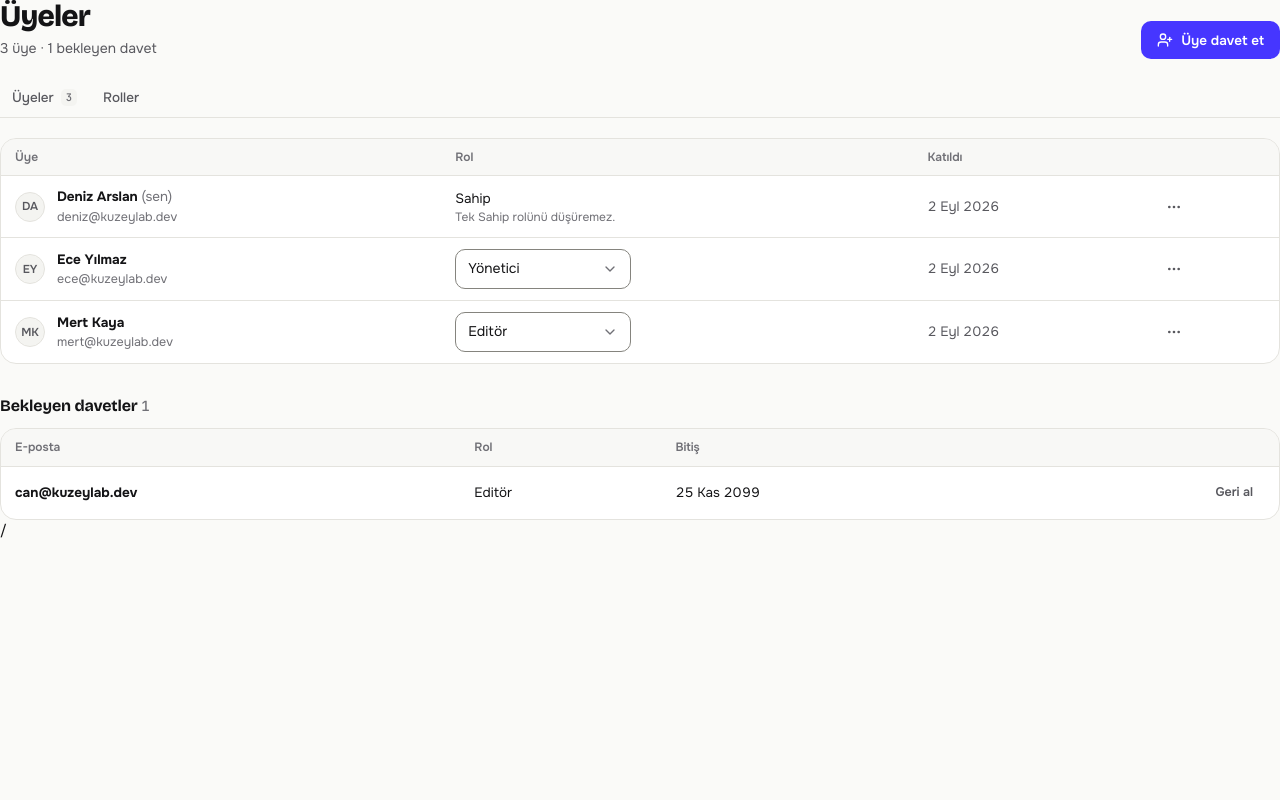
MembersPage › invites each address separately and shows each link once
Click the button "Üye davet et". click: {"x": 1211, "y": 40}
box: [1141,21,1279,59]
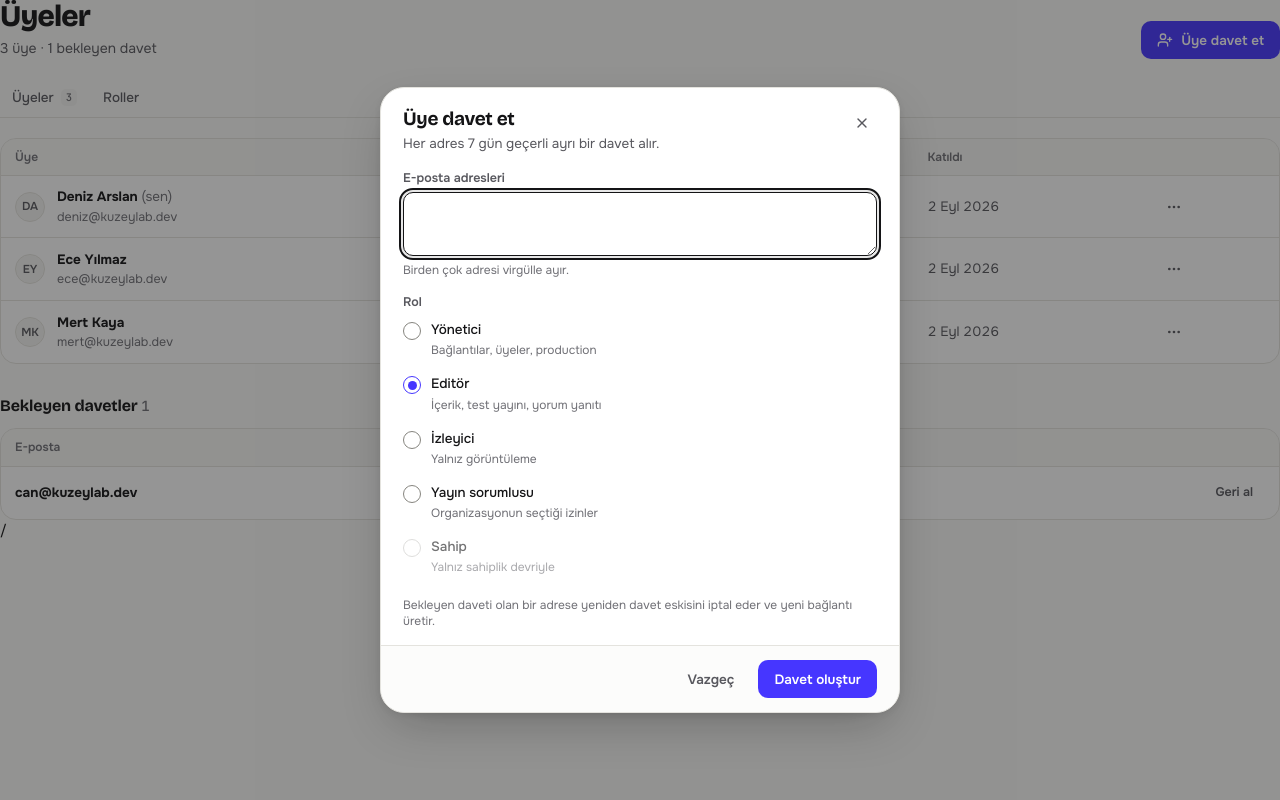
Type "a@kuzeylab.dev, b@kuzeylab.dev" into the text box labelled "E-posta adresleri". click: {"x": 640, "y": 224}
box: [403,192,877,256]
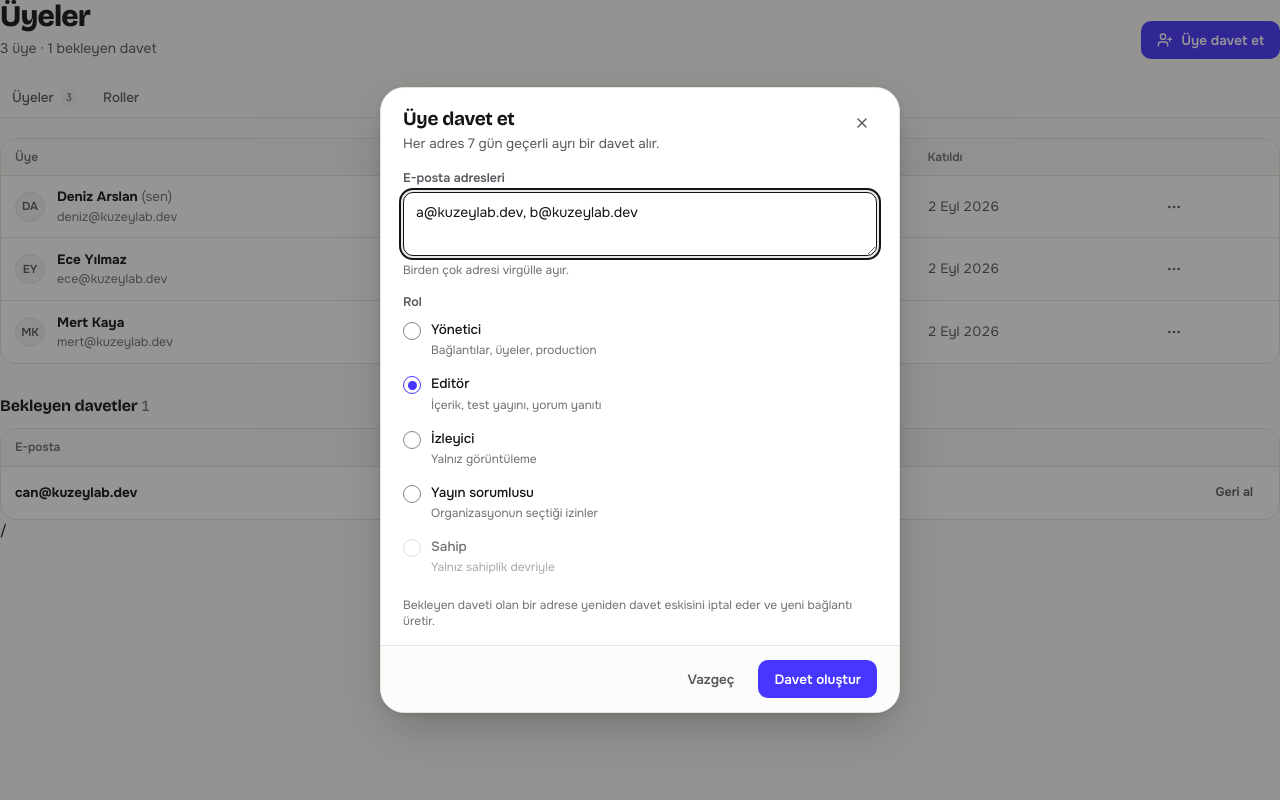
Click the button "Davet oluştur". click: {"x": 818, "y": 679}
box: [758,660,877,698]
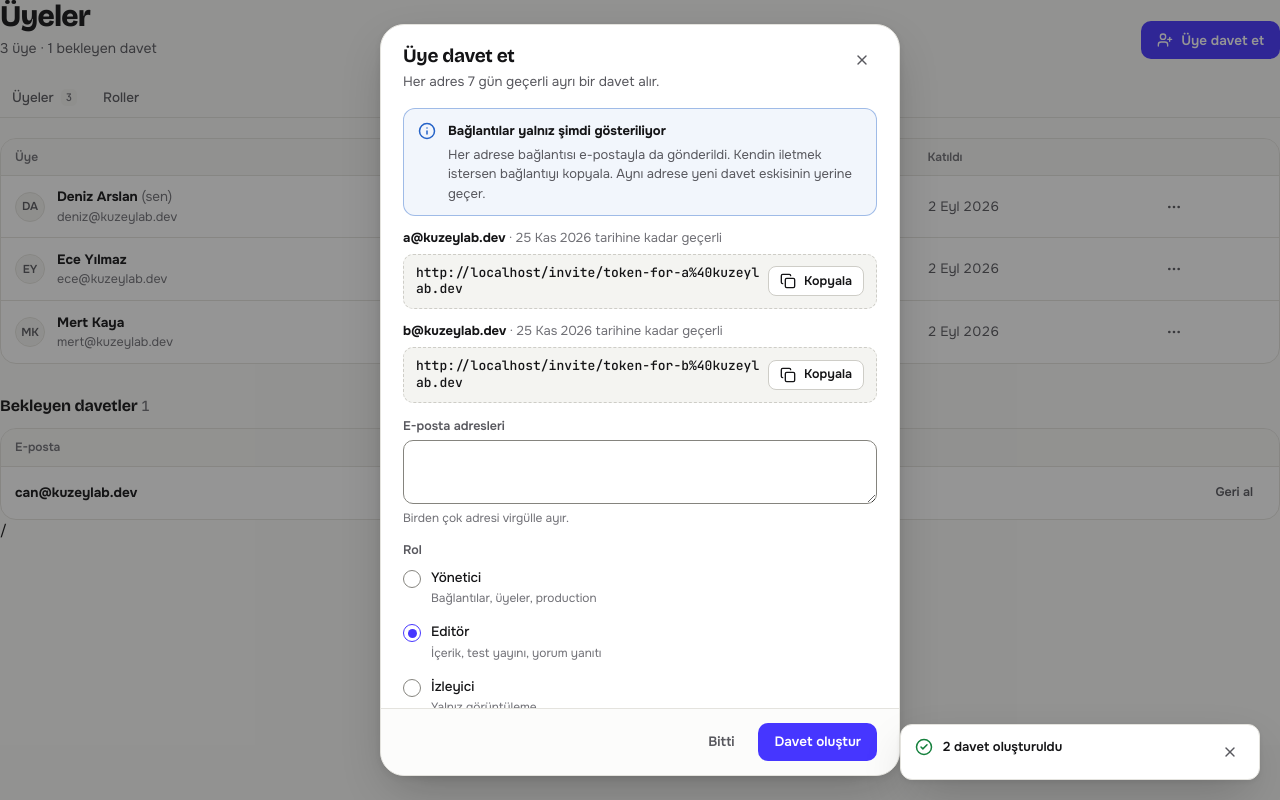
Now the text "Bağlantılar yalnız şimdi gösteriliyor" is shown, box [448,122,666,139]
Now the text "http://localhost/invite/token-for-a%40kuzeylab.dev" is shown, box [416,264,760,298]
